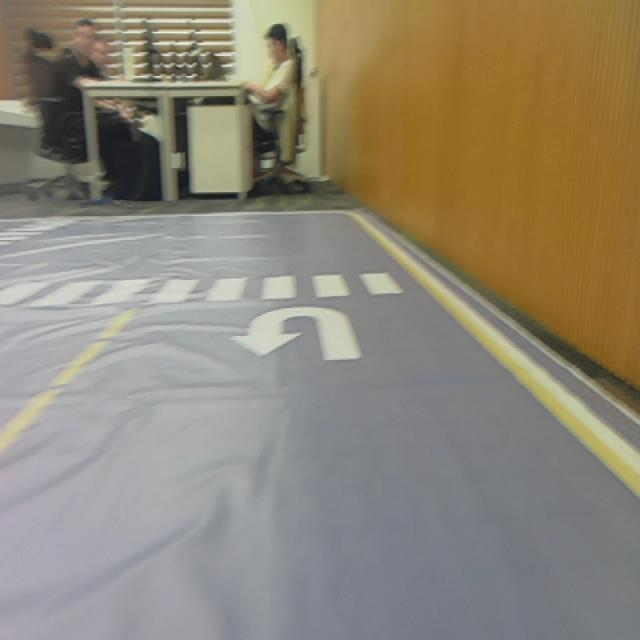left_lane: (0, 310, 138, 454)
right_lane: (350, 215, 640, 502)
